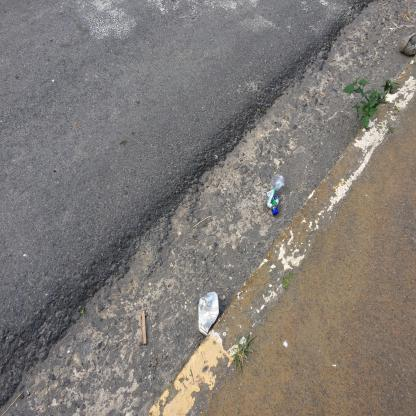metal: (198, 292, 219, 336)
plastic: (266, 174, 284, 215)
